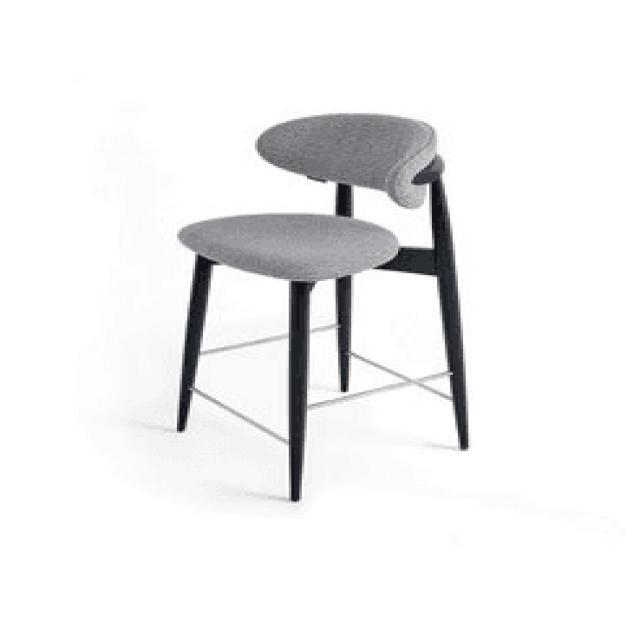chair: (169, 108, 472, 506), (167, 114, 440, 280)
